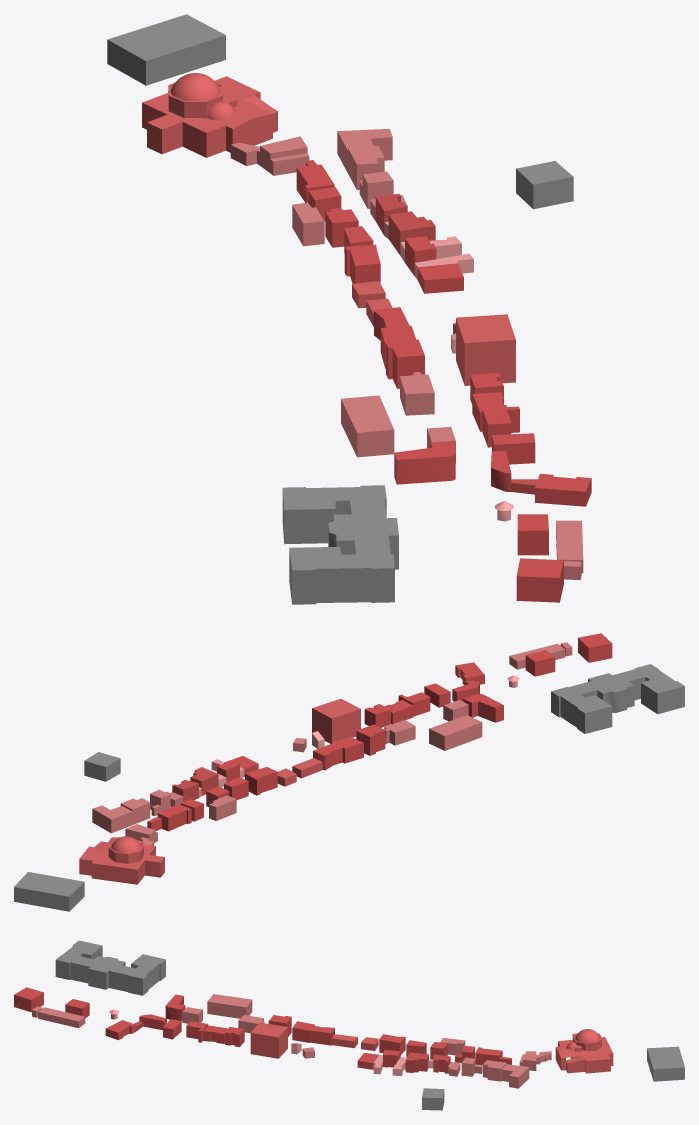
The picture shows the model from 3 angles, top to bottom: view 1: azimuth 30°, elevation 25°; view 2: azimuth 150°, elevation 25°; view 3: azimuth 270°, elevation 25°; orthographic projection. The views are drawn at different scales.
Parts seen in each view (by area): view 1: Nomarxia, Eski_Cami-toposhma.1-toposhma, Mpezesteni, D12.002, G4.001, G2.001, 23o_Primary_school.001, D1.001, D6.001, G7.001, G5.001, D4.001 (+12 smaller); view 2: Nomarxia, Eski_Cami-toposhma.1-toposhma, Mpezesteni, D12.002, G4.001, A12.001, 23o_Primary_school.001, D1.001, G2.001, B3.001, G7.001, D4.001 (+15 smaller); view 3: Nomarxia, Eski_Cami-toposhma.1-toposhma, Mpezesteni, D12.002, G4.001, D3.001, D1.001, A12.001, 23o_Primary_school.001, A5.001, B3.001, D6.001 (+16 smaller).
Boxes of the visible parts, x1,y1,x2,y2 form: Nomarxia: (282,485,398,604); Eski_Cami-toposhma.1-toposhma: (142,73,278,157); Mpezesteni: (107,14,225,85); D12.002: (456,314,515,385); G4.001: (341,395,394,457); G2.001: (394,440,455,484); 23o_Primary_school.001: (516,161,573,209); D1.001: (516,558,563,602); D6.001: (535,473,591,506); G7.001: (386,339,424,388); G5.001: (400,372,434,415); D4.001: (517,514,548,555); Nomarxia: (551,664,684,733); Eski_Cami-toposhma.1-toposhma: (79,836,164,884); Mpezesteni: (14,872,84,911); D12.002: (312,699,360,743); G4.001: (429,715,482,750); A12.001: (92,805,132,833); 23o_Primary_school.001: (84,752,120,781); D1.001: (578,633,612,662); G2.001: (462,693,503,722); B3.001: (245,767,277,795); G7.001: (356,724,385,755); D4.001: (525,650,555,676); Nomarxia: (55,940,165,995); Eski_Cami-toposhma.1-toposhma: (555,1029,613,1073); Mpezesteni: (647,1046,684,1081); D12.002: (250,1022,287,1058); G4.001: (207,994,252,1018); D3.001: (38,1007,85,1028); D1.001: (14,987,43,1011); A12.001: (501,1064,529,1088); 23o_Primary_school.001: (422,1088,444,1110); A5.001: (405,1052,428,1072); B3.001: (379,1034,405,1054); D6.001: (105,1020,135,1040).
Bounding box in the file's own units: 230 × 19.62 × 426.
